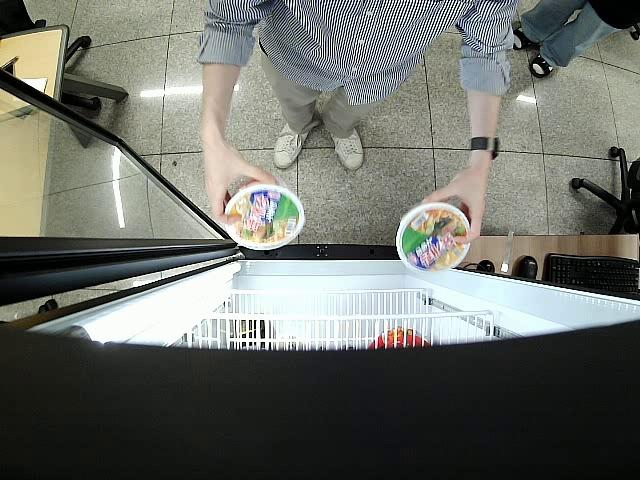00_hand: (203, 146, 280, 227), (419, 172, 485, 247)
09_yukGaeJang: (223, 179, 305, 252), (395, 204, 470, 273)
